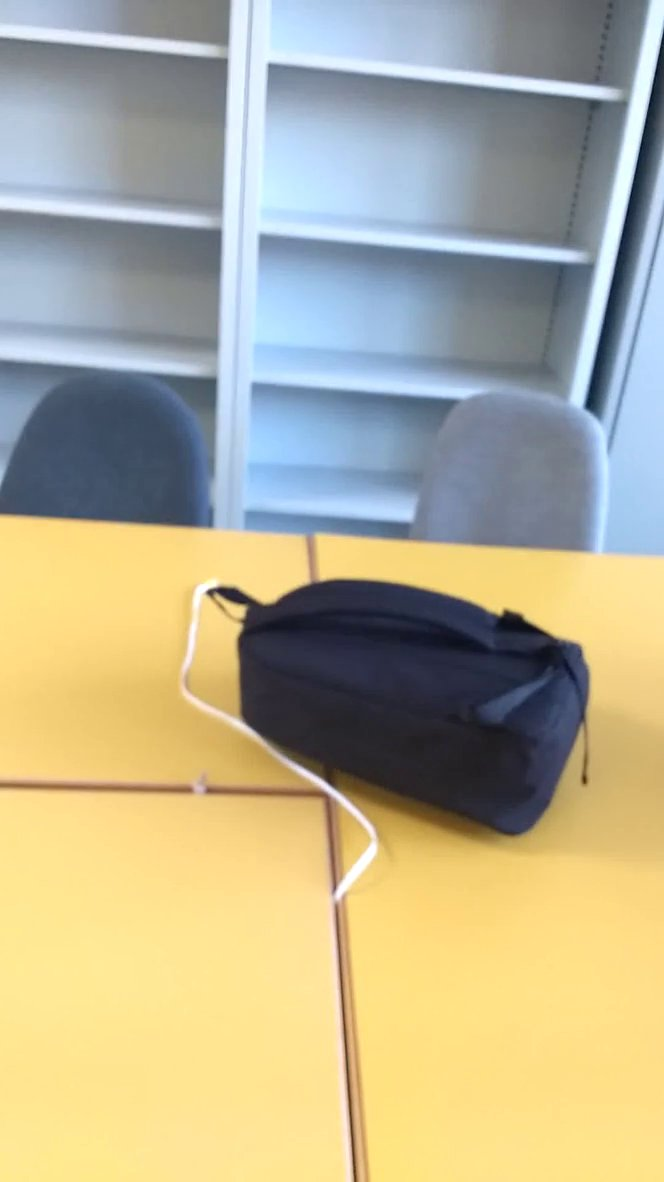bag: (191, 552, 611, 847)
chair: (386, 369, 623, 572), (2, 347, 231, 537)
